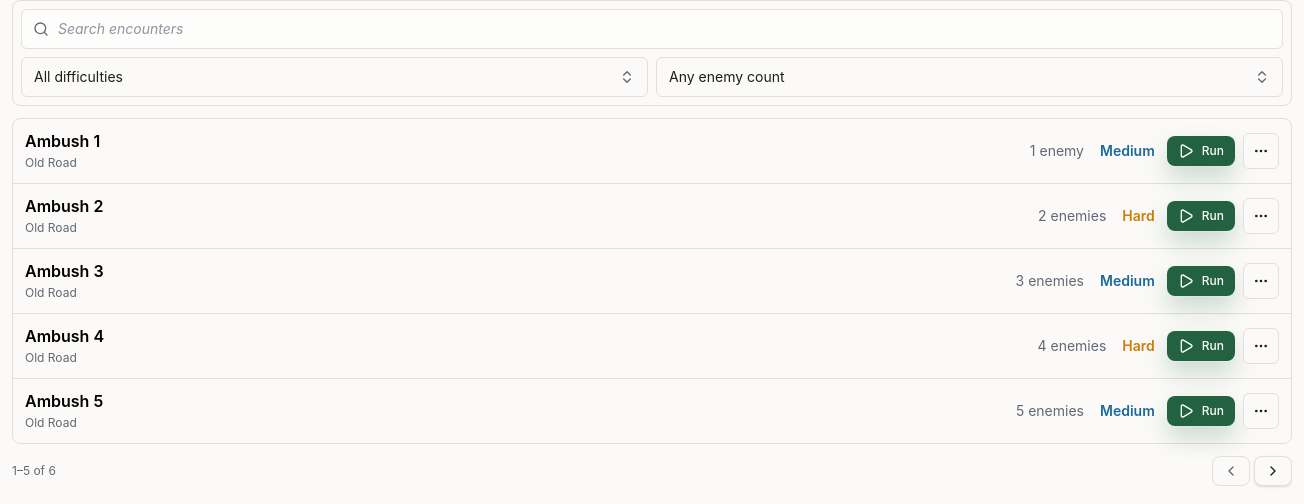
Scenario: EncounterList › searches and paginates the compact encounter list
Expected: the heading "Ambush 1" is shown, [25,131,100,151]
Expected: the text "Ambush 6" is not shown
Step 1. Click the button named "Next page" → (1273, 471), box [1254,456,1292,486]
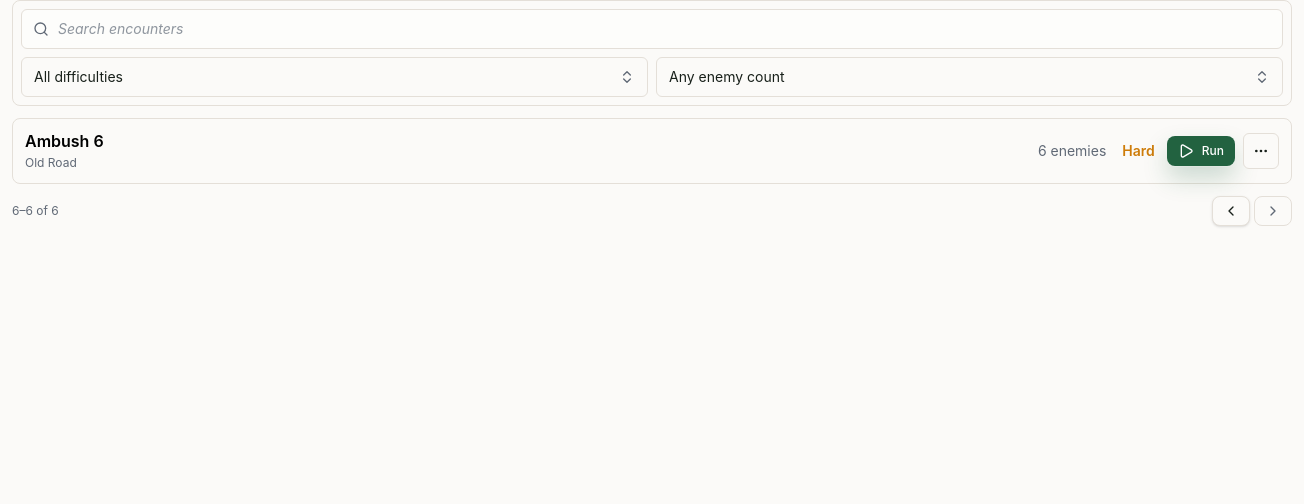
Expected: the heading "Ambush 6" is shown, [25,131,104,151]
Step 2. Type "Ambush 2" into the search field labelled "Search encounters" → (652, 29), box [21,9,1283,49]
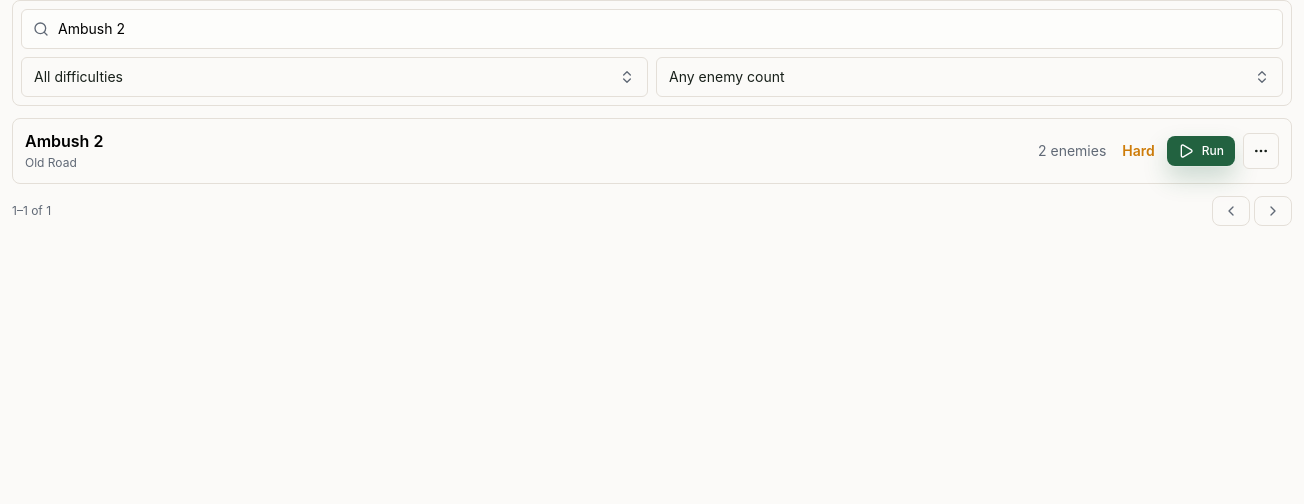
Expected: the heading "Ambush 2" is shown, [25,131,103,151]
Expected: the heading "Ambush 6" is gone
